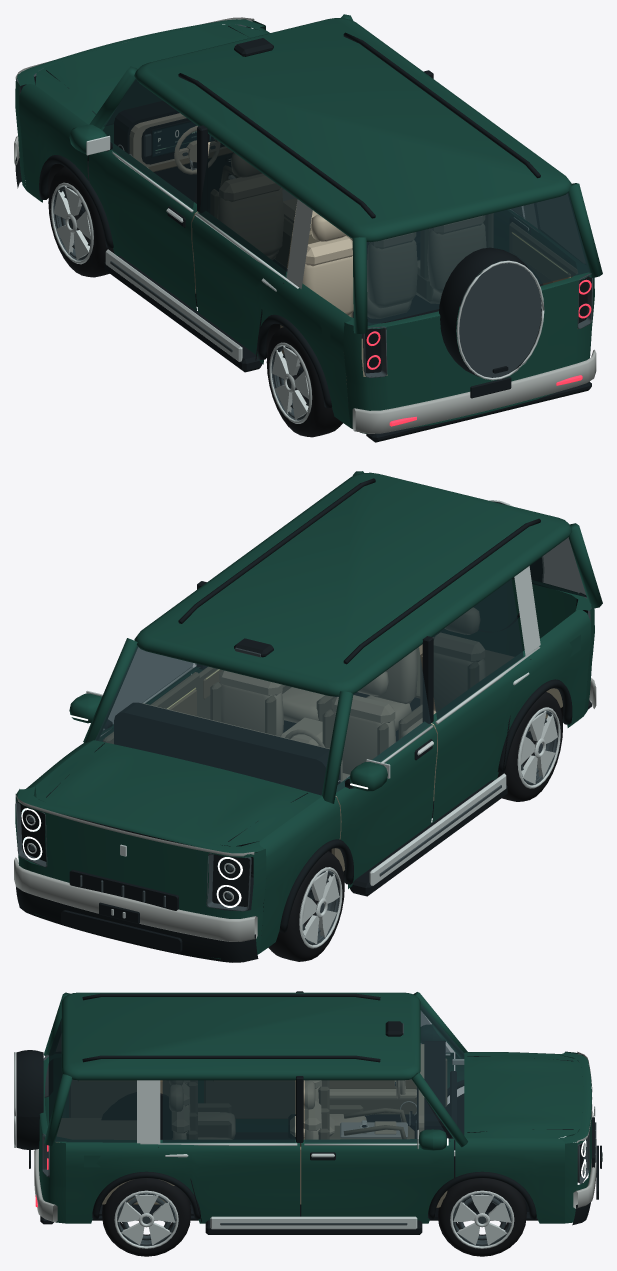
Rendered from xiangjie-g9-simple.glb.
3 views of the same model, one above another, from view 1: azimuth 30°, elevation 25°; view 2: azimuth 150°, elevation 25°; view 3: azimuth 270°, elevation 25° (orthographic). The views are drawn at different scales.
Visible parts, largest first — view 1: rounded_roof_shell, rear_glass, tail_with_open_lamp_apertures, rear_body-1, front_door-1, hood, rear_window-1, oval_tail_storage_lid, front_window-1, rear_silver_bumper, front_fender-1, Seat_back(0, -0.47) (+39 smaller); view 2: rounded_roof_shell, windscreen, hood, rear_body-1, nose_with_open_lamp_apertures, dash_upper, front_door-1, rear_window-1, front_window-1, front_fender-1, front_silver_bumper, tail_with_open_lamp_apertures (+35 smaller); view 3: rounded_roof_shell, rear_body1, front_door1, hood, rear_window1, front_window1, front_fender1, quarter_window1, windscreen, rear_lining-10.55, Tire_FR, Tire_RR (+43 smaller).
Boxes of the visible parts, box(x1,y1,x2,y2) form: rounded_roof_shell: box(134, 18, 571, 242); rear_glass: box(366, 192, 590, 326); tail_with_open_lamp_apertures: box(343, 277, 594, 433); rear_body-1: box(192, 211, 351, 427); front_door-1: box(88, 141, 197, 311); hood: box(35, 24, 265, 125); rear_window-1: box(199, 136, 297, 276); oval_tail_storage_lid: box(459, 263, 541, 377); front_window-1: box(103, 79, 197, 208); rear_silver_bumper: box(352, 349, 596, 433); front_fender-1: box(19, 84, 88, 202); Seat_back(0, -0.47): box(217, 188, 283, 255); rounded_roof_shell: box(134, 472, 571, 696); windscreen: box(95, 646, 338, 795); hood: box(35, 740, 321, 846); rear_body-1: box(432, 610, 590, 822); nose_with_open_lamp_apertures: box(15, 789, 266, 959); dash_upper: box(114, 703, 340, 794); front_door-1: box(335, 721, 437, 888); rear_window-1: box(432, 579, 523, 719); front_window-1: box(336, 647, 430, 792); front_fender-1: box(255, 796, 340, 953); front_silver_bumper: box(14, 857, 257, 941); tail_with_open_lamp_apertures: box(433, 578, 594, 715); rounded_roof_shell: box(61, 992, 420, 1080); rear_body1: box(66, 1139, 299, 1223); front_door1: box(301, 1138, 453, 1223); hood: box(464, 1052, 583, 1138); rear_window1: box(162, 1080, 295, 1142); front_window1: box(305, 1079, 450, 1142); front_fender1: box(455, 1138, 564, 1223); quarter_window1: box(55, 1079, 136, 1142); windscreen: box(420, 1004, 464, 1134); rear_lining-10.55: box(204, 1081, 295, 1118); Tire_FR: box(438, 1178, 526, 1256); Tire_RR: box(102, 1178, 191, 1256).
Bounding box in the file's own units: 2.58 × 1.96 × 5.54.
Materials: 18 (3 with a texture image).
